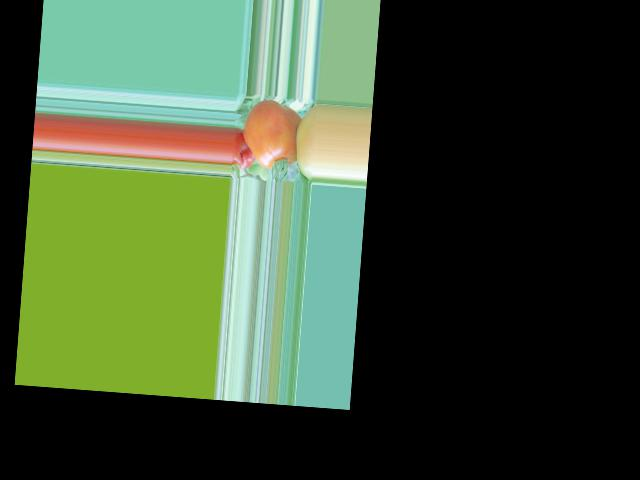tomato: (241, 98, 300, 170)
